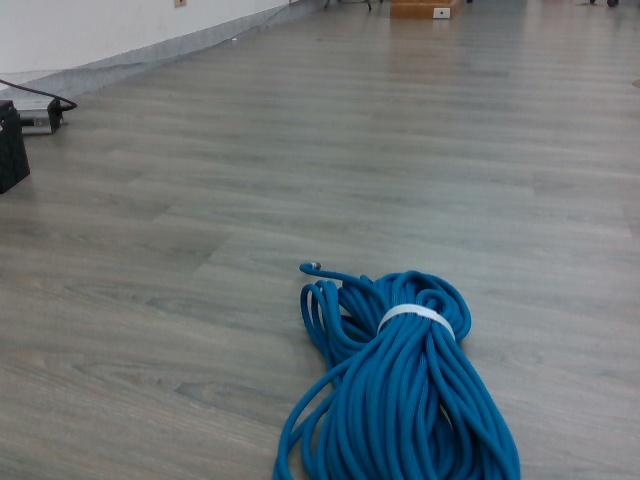rope: (269, 259, 525, 480)
